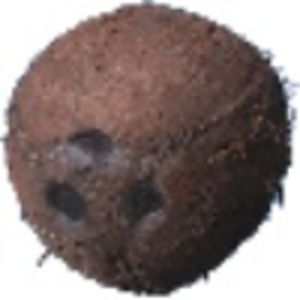coco: (1, 1, 300, 296)
